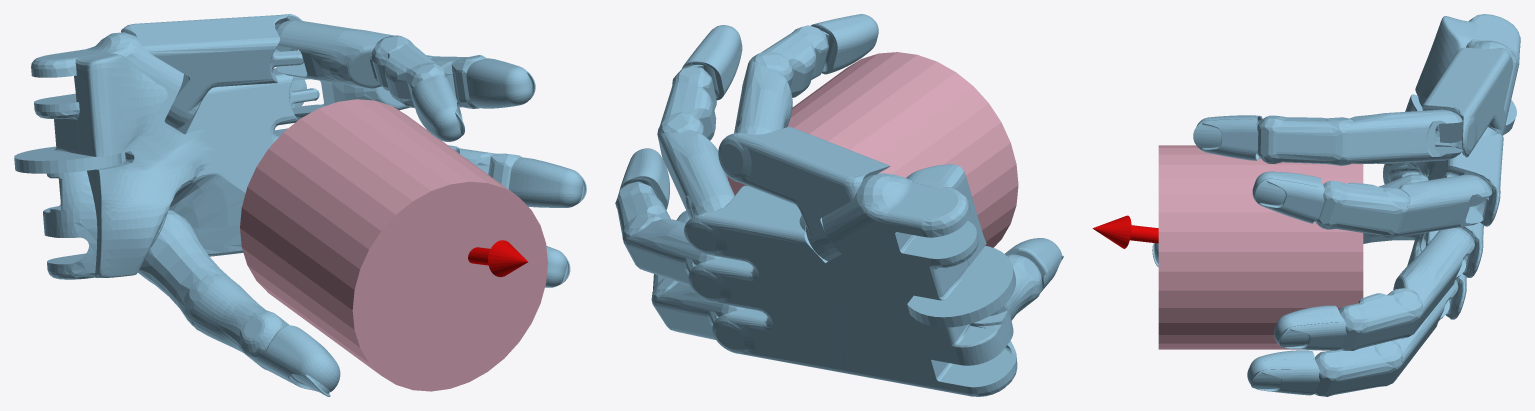
3 views of the same model, side by side, from view 1: azimuth 30°, elevation 25°; view 2: azimuth 150°, elevation 25°; view 3: azimuth 270°, elevation 25° (orthographic). The views are drawn at different scales.
Parts seen in each view (by area): view 1: world, cylinder_medium.stl; view 2: world, cylinder_medium.stl; view 3: world, cylinder_medium.stl.
Boxes of the visible parts, x1,y1,x2,y2 form: world: [14, 14, 586, 396]; cylinder_medium.stl: [240, 99, 547, 391]; world: [615, 14, 1063, 396]; cylinder_medium.stl: [727, 52, 1018, 247]; world: [1092, 14, 1520, 396]; cylinder_medium.stl: [1158, 145, 1363, 349].
Bounding box in the file's own units: 0.1896 × 0.1044 × 0.1675.
